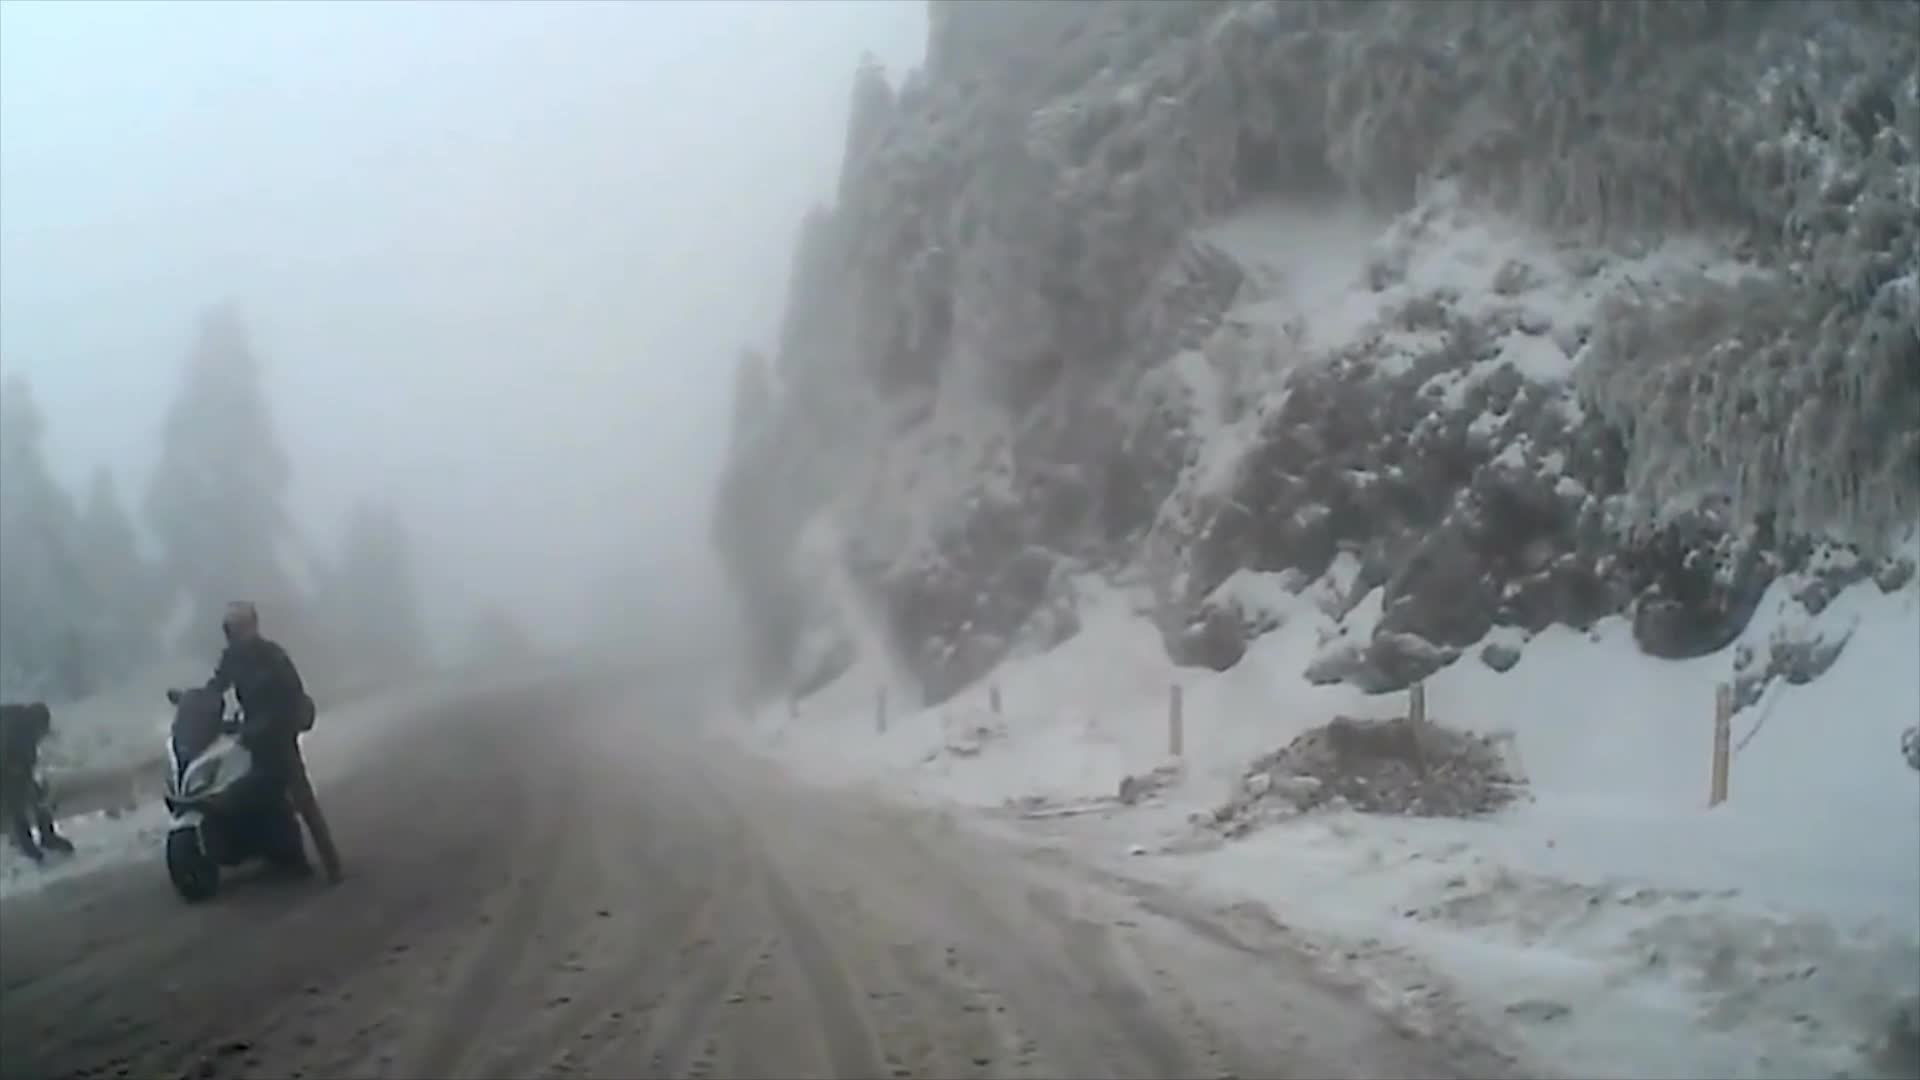pedestrian: (177, 587, 345, 889), (1, 707, 74, 874)
